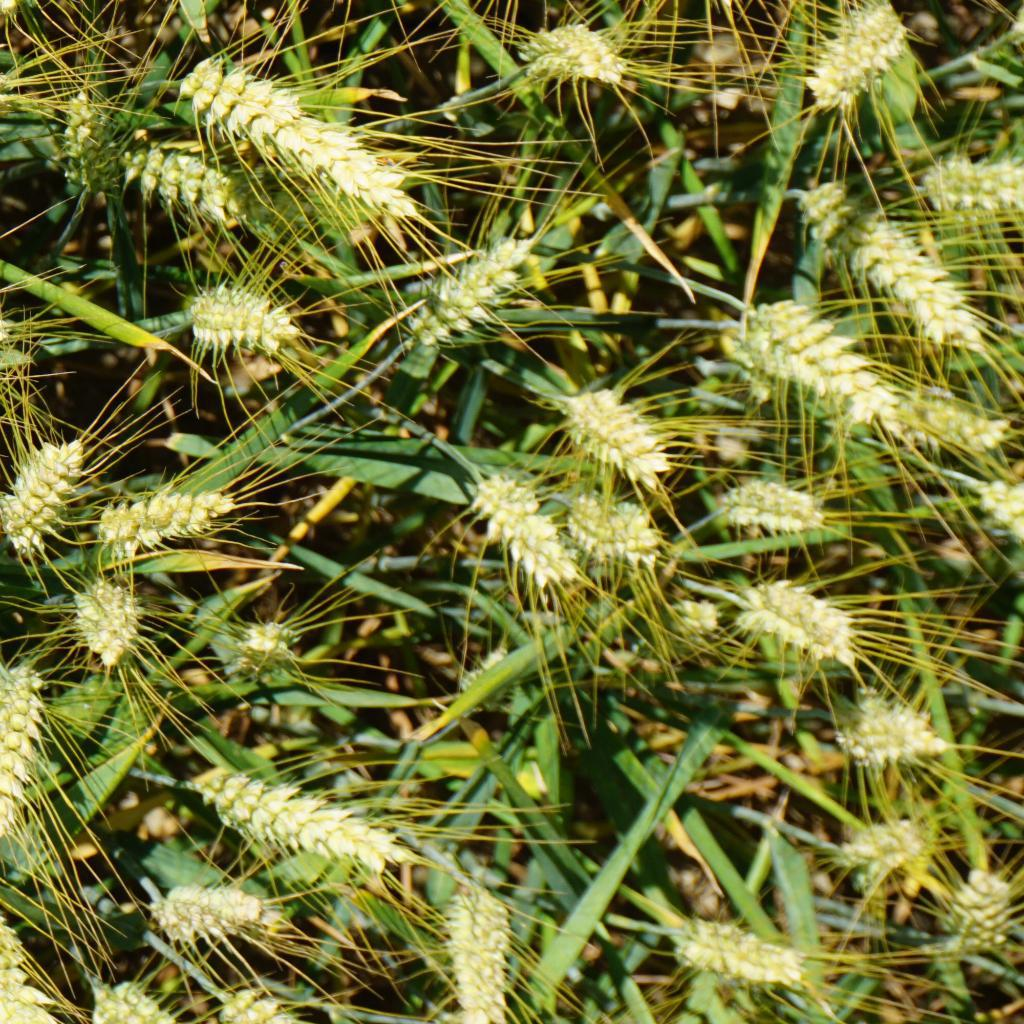0-0: (176, 69, 411, 213), (187, 760, 419, 891), (799, 184, 985, 332), (756, 300, 892, 416), (89, 479, 263, 568), (731, 557, 867, 668), (433, 868, 530, 1022), (467, 469, 567, 595), (789, 0, 911, 100), (548, 378, 671, 472), (419, 230, 519, 342), (149, 866, 290, 945), (135, 136, 251, 231), (675, 911, 816, 987), (193, 264, 295, 365), (563, 482, 674, 567), (711, 464, 828, 543), (840, 687, 952, 769), (0, 659, 47, 849), (1, 431, 79, 544), (938, 864, 1020, 967), (890, 392, 1019, 457), (915, 143, 1024, 214), (528, 11, 618, 96), (65, 86, 132, 190), (75, 570, 143, 664), (0, 910, 54, 1024), (645, 567, 722, 644), (835, 815, 920, 884), (227, 612, 301, 679), (967, 470, 1024, 523), (223, 982, 289, 1024), (96, 979, 154, 1024), (0, 288, 21, 369), (0, 59, 19, 135), (0, 0, 49, 16)
